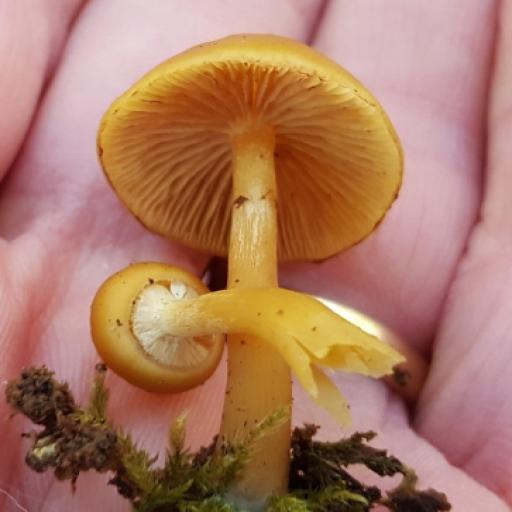mushroom: (79, 24, 421, 421)
